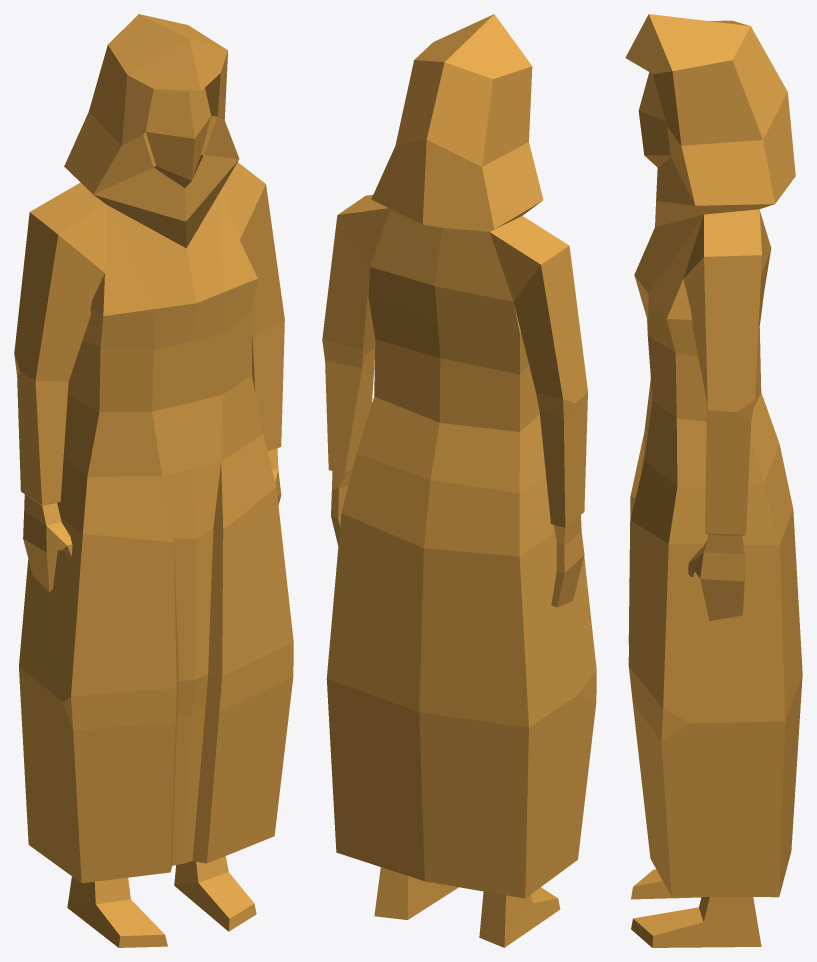
File: woman-nanny.fbx
3 renders of one model, left to right at view 1: azimuth 30°, elevation 25°; view 2: azimuth 150°, elevation 25°; view 3: azimuth 270°, elevation 25°, orthographic. The views are drawn at different scales.
Visible parts, largest first — view 1: woman-nanny; view 2: woman-nanny; view 3: woman-nanny.
Boxes of the visible parts, box(x1,y1,x2,y2) form: woman-nanny: box(14, 14, 293, 947); woman-nanny: box(322, 14, 596, 947); woman-nanny: box(625, 14, 802, 947).
Bounding box in the file's own units: 0.5405 × 1.84 × 0.3277.
